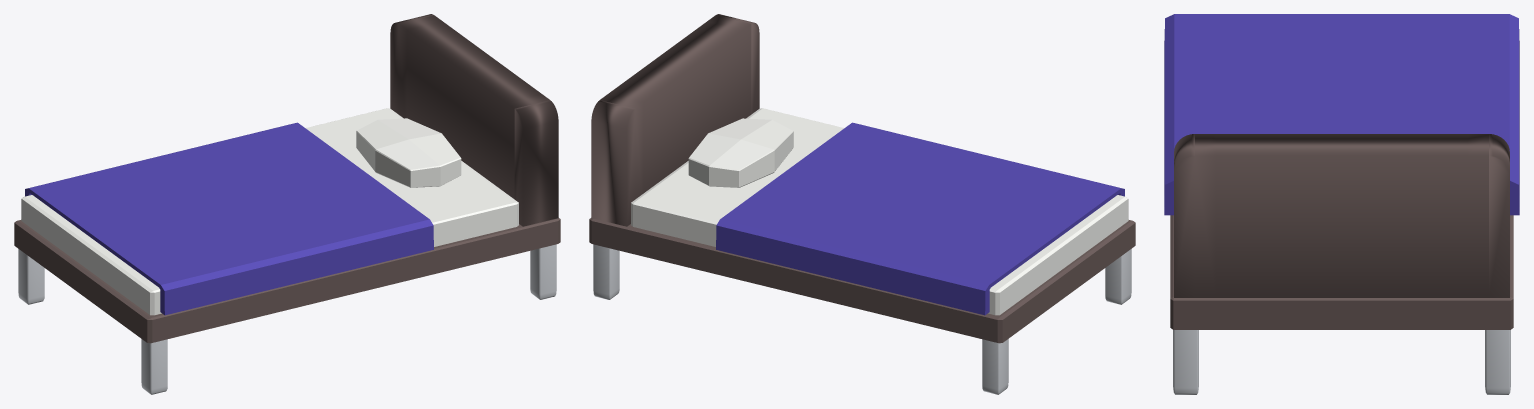
Rendered from base_bed_purple.gltf.
3 views of the same model, side by side, from view 1: azimuth 30°, elevation 25°; view 2: azimuth 150°, elevation 25°; view 3: azimuth 270°, elevation 25° (orthographic). The views are drawn at different scales.
Parts seen in each view (by area): view 1: Plane.007, Plane.004, Plane.002, Plane.003, Plane.005, Cube.001; view 2: Plane.007, Plane.004, Plane.002, Plane.003, Plane.005, Cube.001; view 3: Plane.004, Plane.007, Plane.002, Cube.001.
Part boxes in pixels (x1,y1,x2,y2): Plane.007: [25, 122, 433, 315]; Plane.004: [390, 14, 558, 226]; Plane.002: [14, 218, 560, 343]; Plane.003: [21, 108, 518, 315]; Plane.005: [356, 118, 461, 187]; Cube.001: [18, 244, 556, 394]; Plane.007: [716, 122, 1124, 315]; Plane.004: [591, 14, 759, 226]; Plane.002: [589, 218, 1135, 343]; Plane.003: [631, 108, 1128, 315]; Plane.005: [688, 118, 793, 187]; Cube.001: [593, 244, 1131, 394]; Plane.004: [1174, 134, 1509, 297]; Plane.007: [1164, 14, 1519, 215]; Plane.002: [1170, 215, 1513, 329]; Cube.001: [1173, 330, 1510, 394].
Size of the model in its own units: 6.95 by 3.05 by 4.08.
